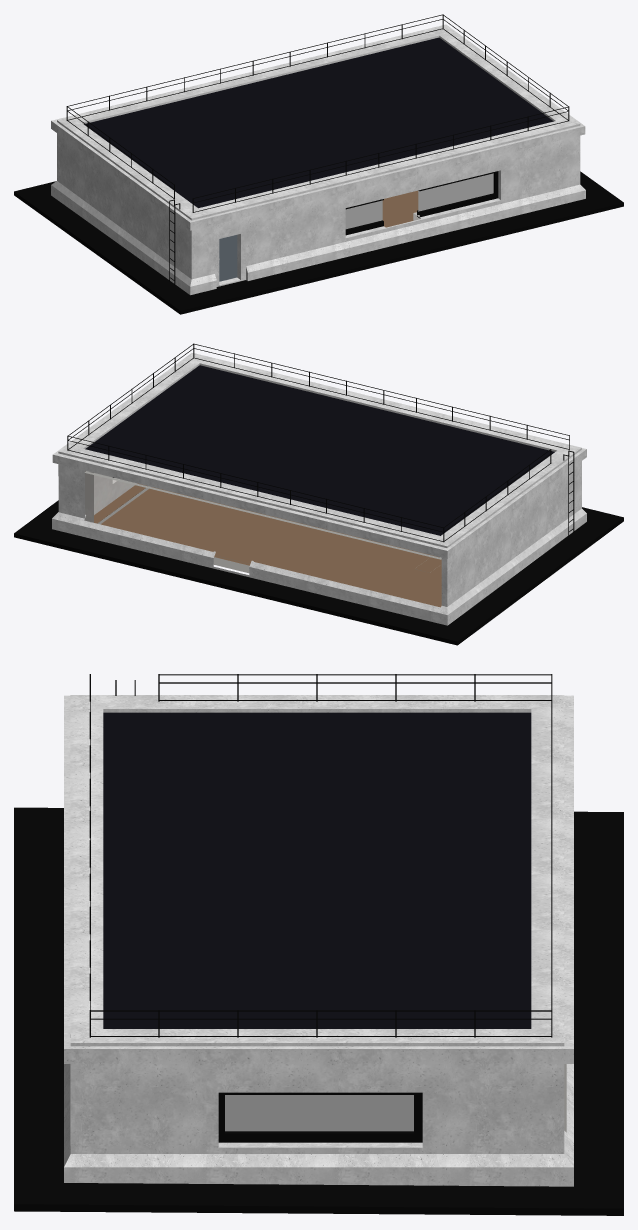
Rendered from control-post.access-v11.lod1.glb.
The picture shows the model from 3 angles, top to bottom: view 1: azimuth 30°, elevation 25°; view 2: azimuth 150°, elevation 25°; view 3: azimuth 270°, elevation 25°; orthographic projection. The views are drawn at different scales.
Parts seen in each view (by area): view 1: Inner_Floor_Floor_1_0, Inner_Floor_Outer_Walls_0, Railing_Railing_0, window_1_window_0; view 2: Inner_Floor_Floor_1_0, Inner_Floor_Outer_Walls_0, Railing_Railing_0, Walls_Inner_walls_0; view 3: Inner_Floor_Floor_1_0, Inner_Floor_Outer_Walls_0, Railing_Railing_0, window_1_window_0.
Part boxes in pixels (left/top/right/bottom): Inner_Floor_Floor_1_0: left=14, top=37, right=623, bottom=314; Inner_Floor_Outer_Walls_0: left=51, top=24, right=585, bottom=295; Railing_Railing_0: left=66, top=14, right=569, bottom=285; window_1_window_0: left=345, top=171, right=498, bottom=235; Inner_Floor_Floor_1_0: left=14, top=365, right=623, bottom=645; Inner_Floor_Outer_Walls_0: left=52, top=353, right=586, bottom=625; Railing_Railing_0: left=67, top=343, right=574, bottom=542; Walls_Inner_walls_0: left=85, top=470, right=435, bottom=572; Inner_Floor_Floor_1_0: left=14, top=712, right=623, bottom=1215; Inner_Floor_Outer_Walls_0: left=64, top=695, right=573, bottom=1186; Railing_Railing_0: left=89, top=674, right=552, bottom=1037; window_1_window_0: left=218, top=1092, right=422, bottom=1142.
Bounding box in the file's own units: 19.9 × 4.09 × 12.93.
6 materials, 3 textured.
